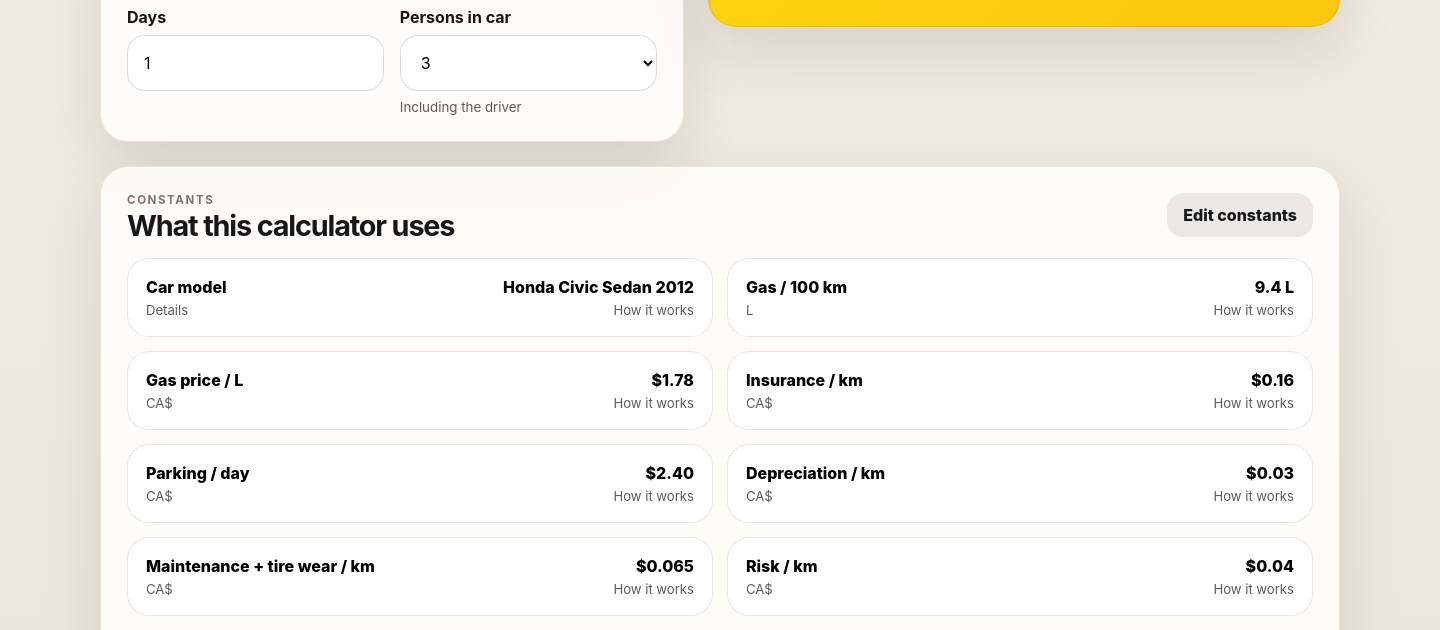
App › shows a Supabase-backed explanation modal
(page scrolled)
Click the button "Gas / 100 km L 9.4 L How it works" at (797, 287), box top-left (727, 258), bottom-right (1313, 337)
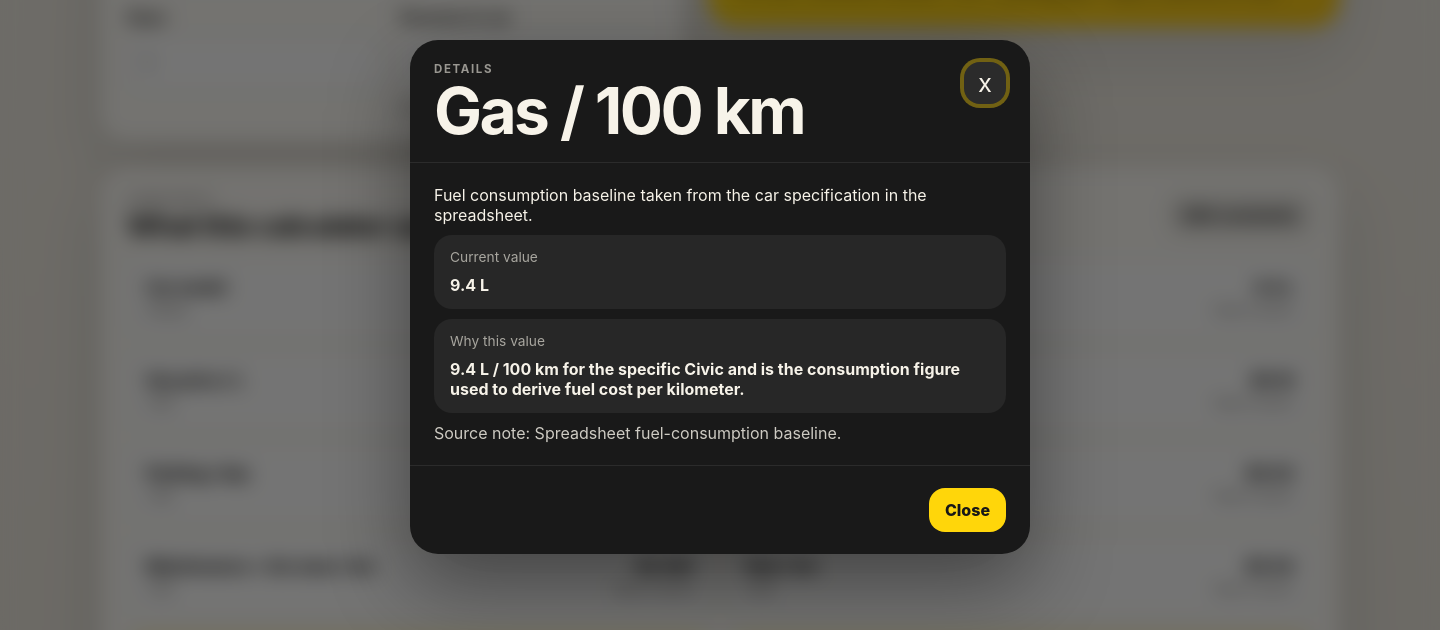
Check: the dialog is shown, box top-left (410, 40), bottom-right (1030, 554)
Check: the text "Fuel consumption baseline taken from the car specification in the spreadsheet." is shown, box top-left (434, 185), bottom-right (1006, 225)
Check: the text "9.4 L / 100 km for the specific Civic and is the consumption figure used to derive fuel cost per kilometer." is shown, box top-left (450, 359), bottom-right (960, 399)
